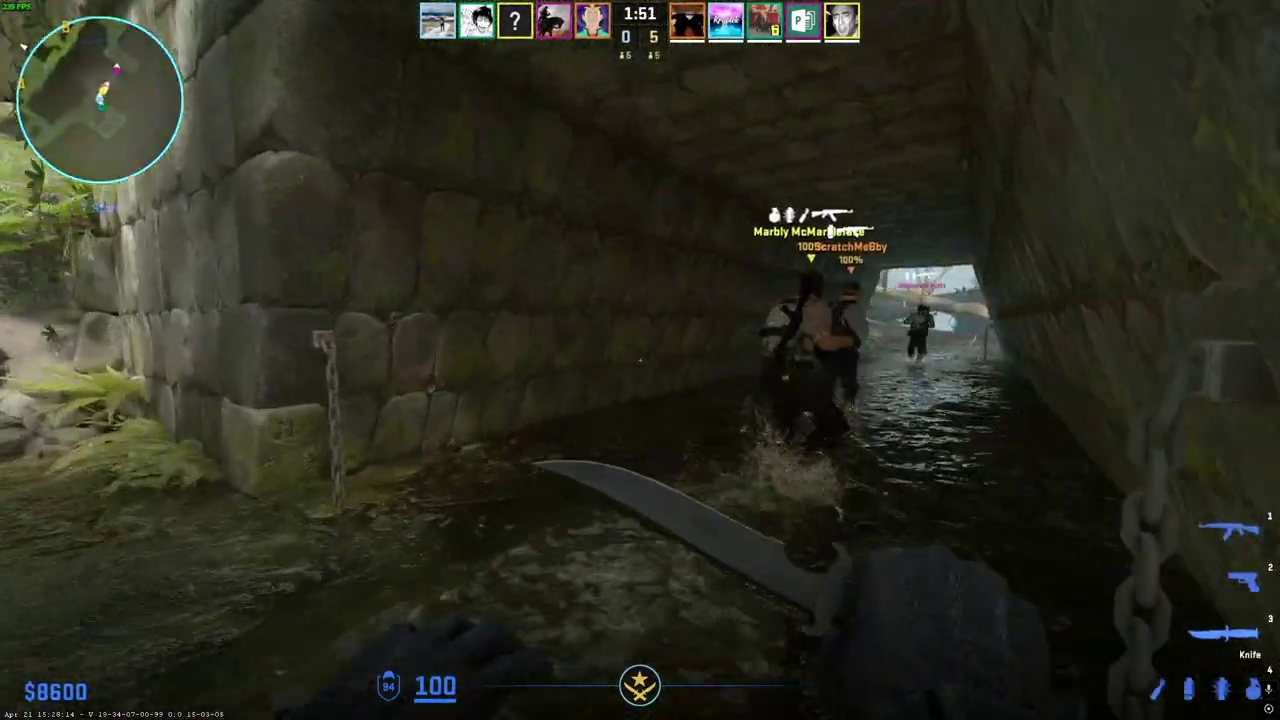Terrorist: (762, 271, 830, 437), (825, 280, 863, 409), (905, 304, 933, 365)
